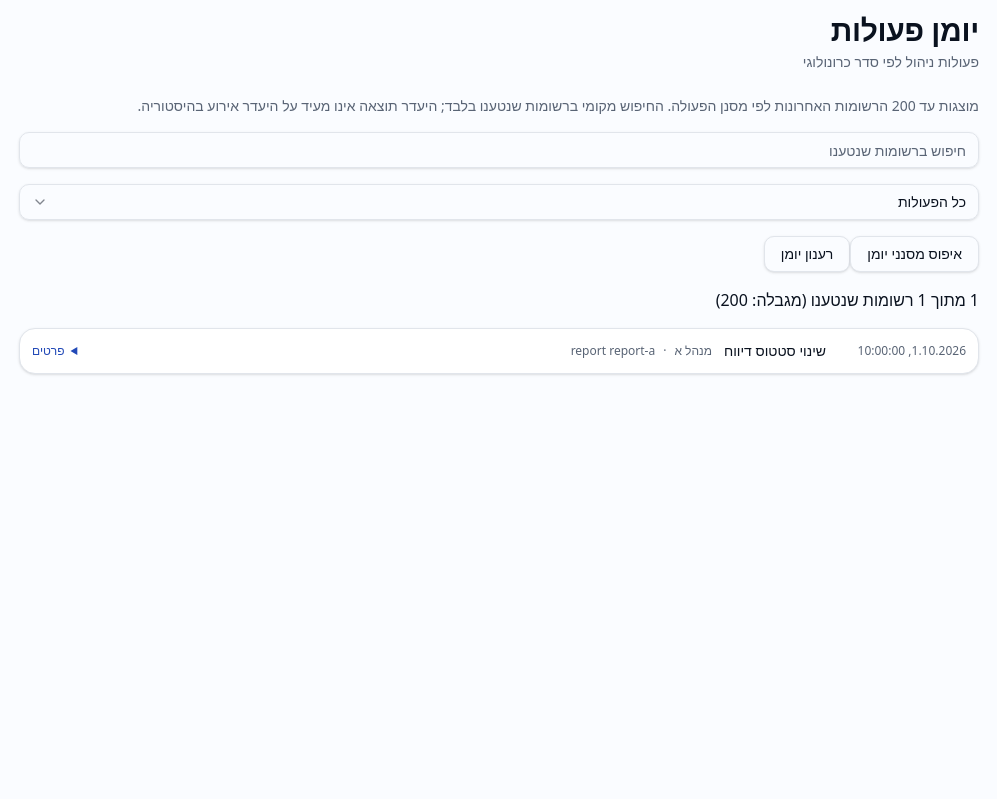
Test: audit workflow › sends action filter to server and searches only loaded rows with reset
Expected: the text "מנהל א" is shown, left=674, top=342, right=712, bottom=359
Click the dropdown named "סוג פעולה": [932, 202] box left=19, top=184, right=979, bottom=220
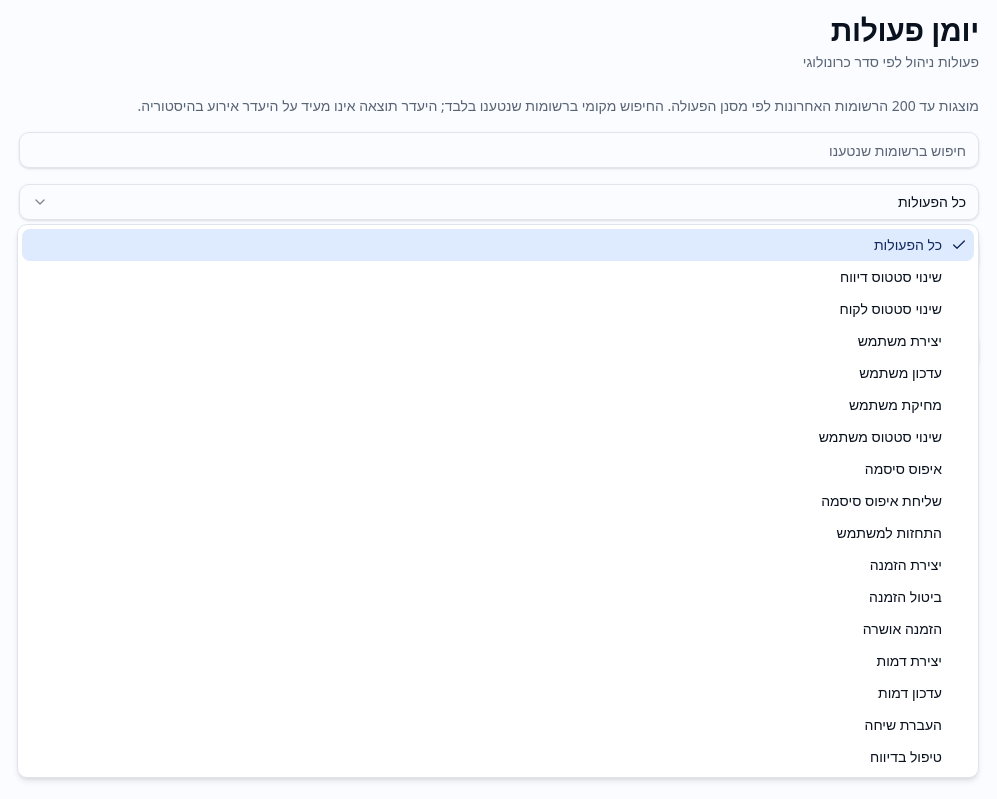
Click the option "שינוי סטטוס לקוח": [891, 308] box left=840, top=299, right=942, bottom=318
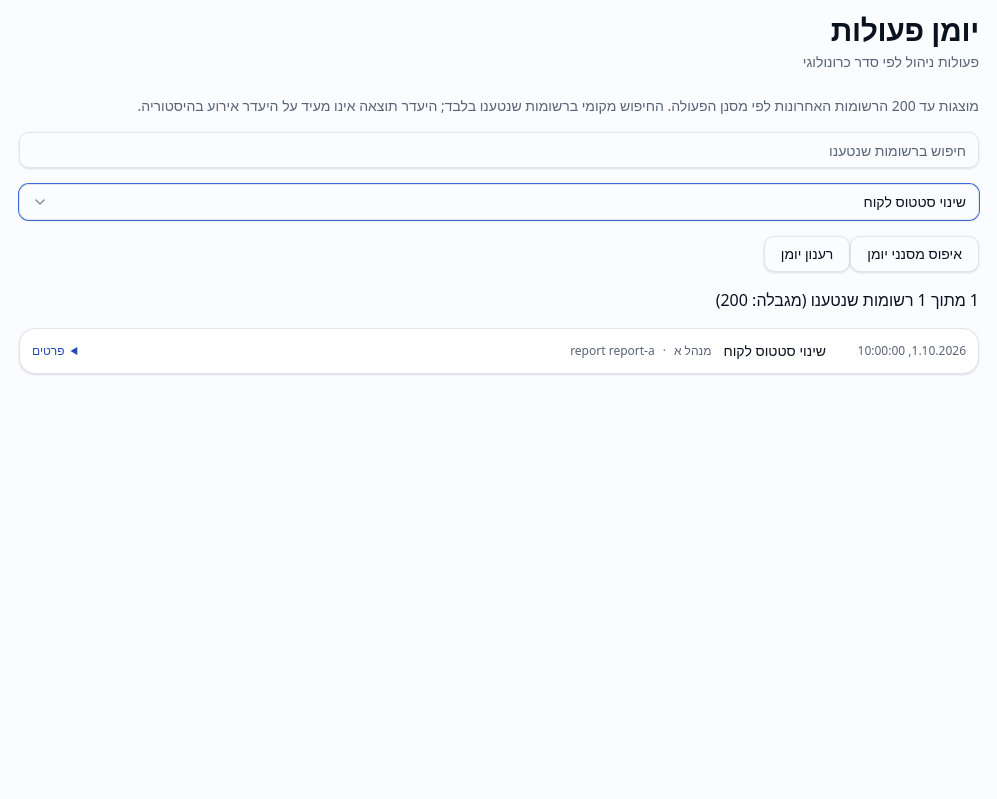
In the field named "חיפוש ביומן שנטען": [499, 150] box left=19, top=132, right=979, bottom=168, type "אין כזה"
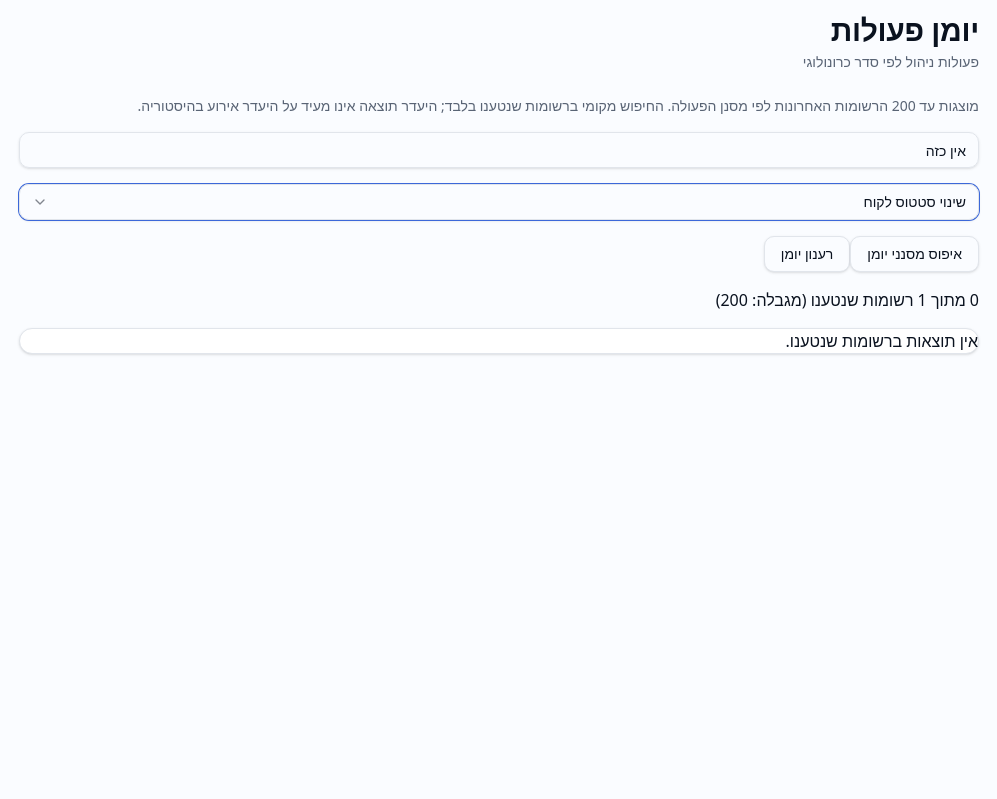
Result: the text "אין תוצאות ברשומות שנטענו." is shown at left=786, top=330, right=978, bottom=352
Click the button "איפוס מסנני יומן": [915, 254] box left=850, top=236, right=979, bottom=272
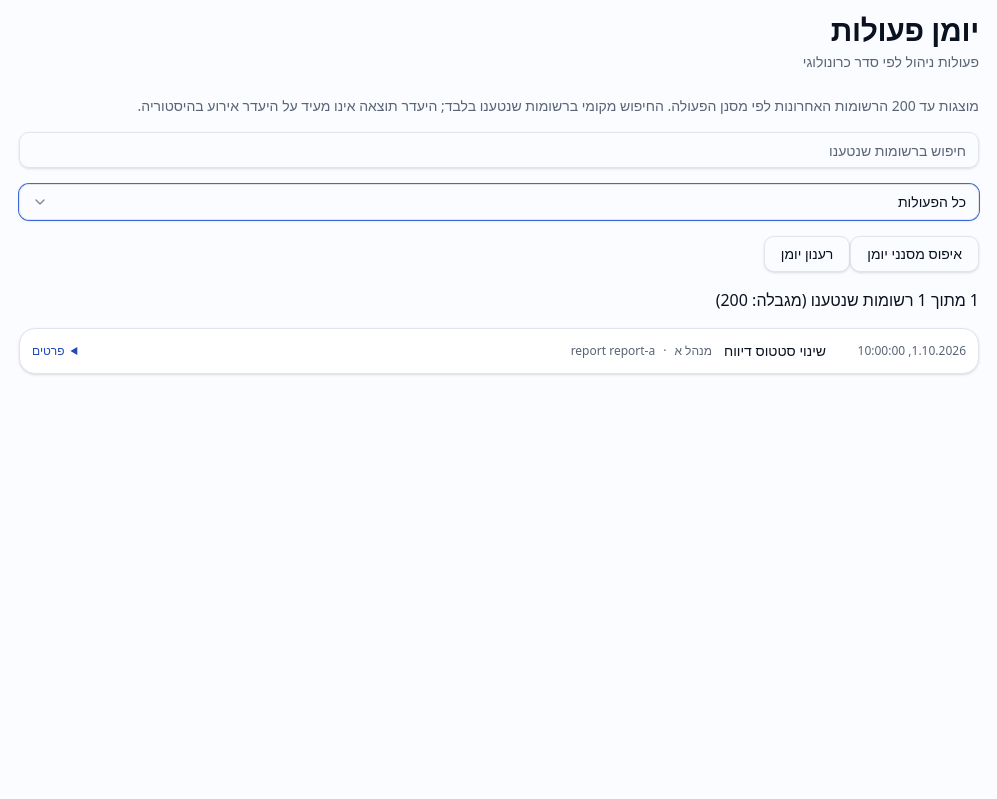
Result: the field is empty at left=19, top=132, right=979, bottom=168
Result: the text "מנהל א" is shown at left=674, top=342, right=712, bottom=359
